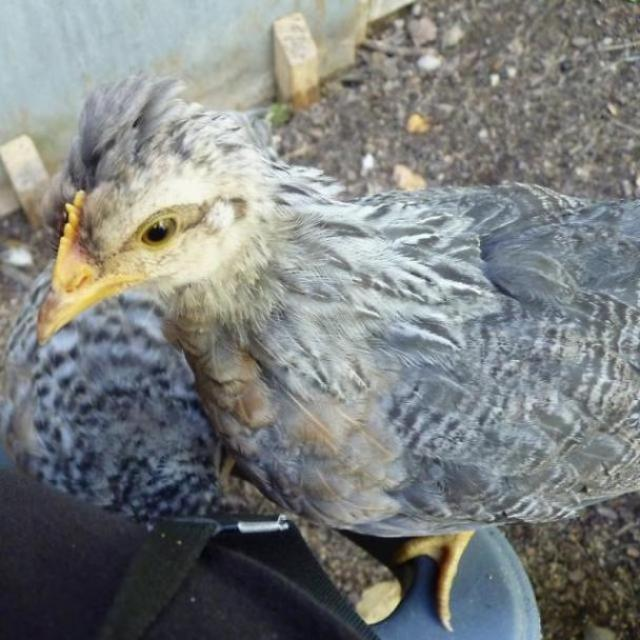Chicken: (27, 59, 640, 634)
